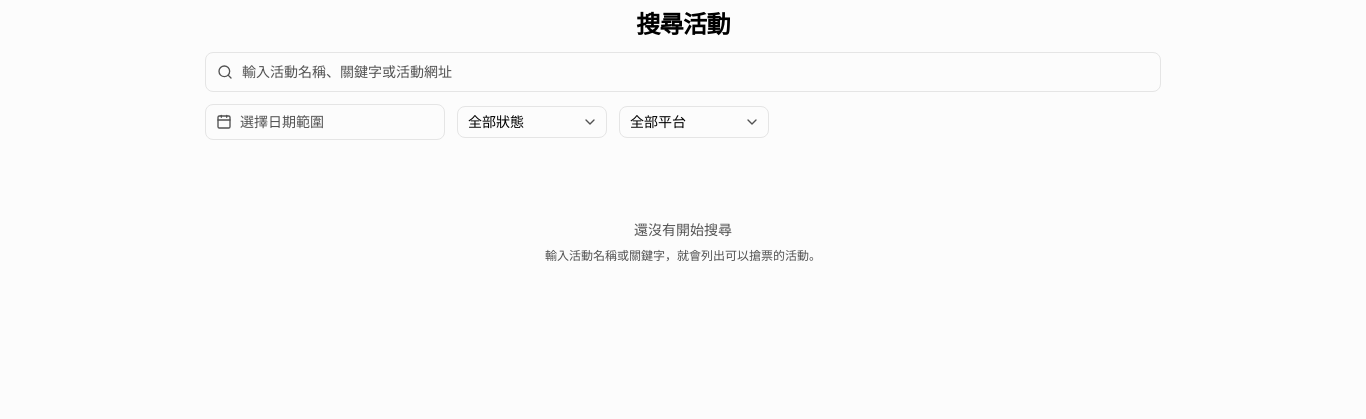
Test: 活動搜尋 › 輸入關鍵字後透過 debounce 自動觸發搜尋，不需點擊搜尋按鈕
Type "告五人" into the search field labelled "活動名稱、關鍵字或活動網址". click: (683, 72)
box: [205,52,1161,92]
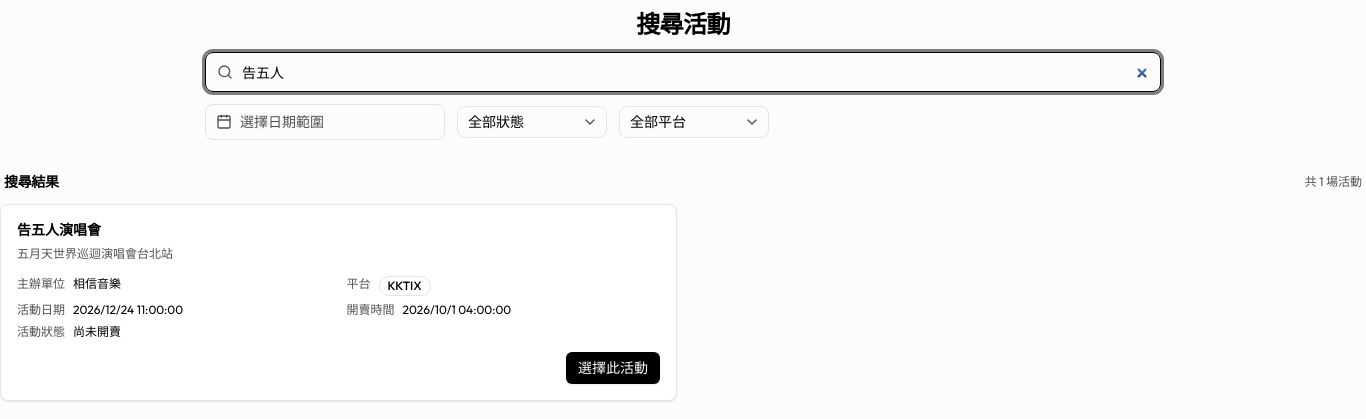
Check: the heading "告五人演唱會" is shown, box [17,221,101,239]
